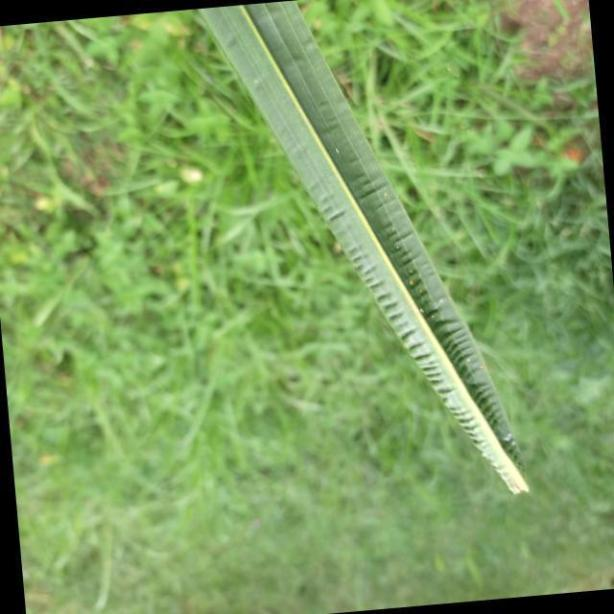Boron: (203, 0, 535, 497)
